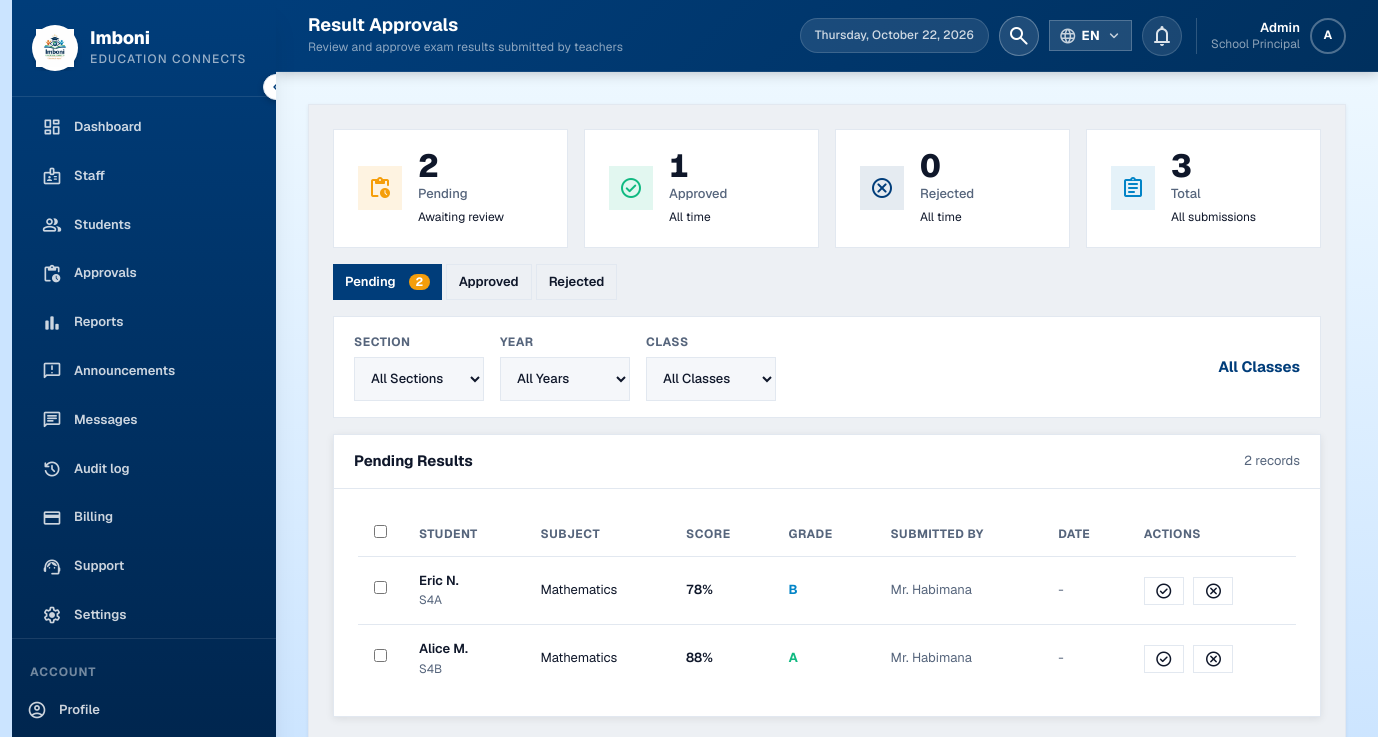
Scenario: AdminApprovals › switches to the Approved tab and shows status badges instead of actions
Expected: the text "Eric N." is shown, [419,572,459,588]
Click the button "Approved" at [489, 282], box [446,264,532,300]
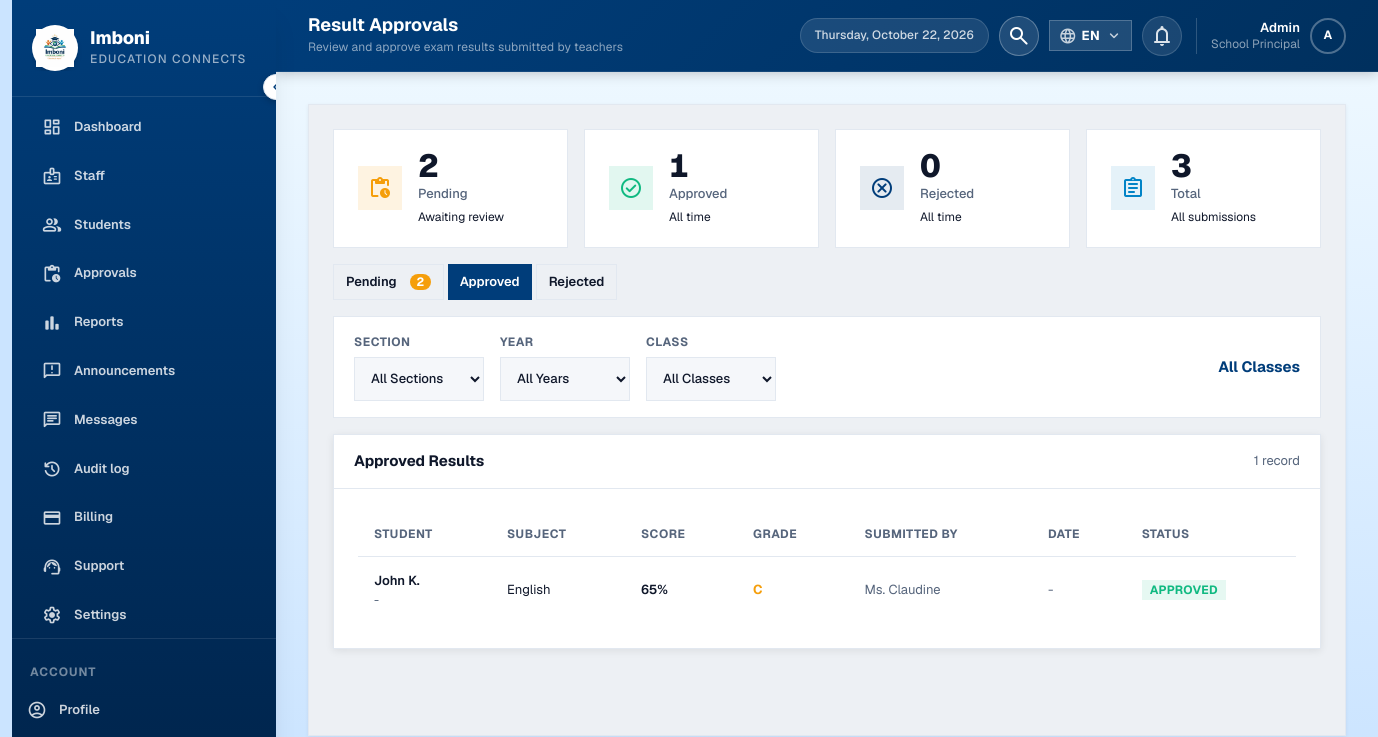
Expected: the text "Approved" in the row of "Total" is shown, [669,185,727,202]
Expected: the text "John K." is shown, [374,572,420,588]
Expected: the button titled "Approve" is gone
